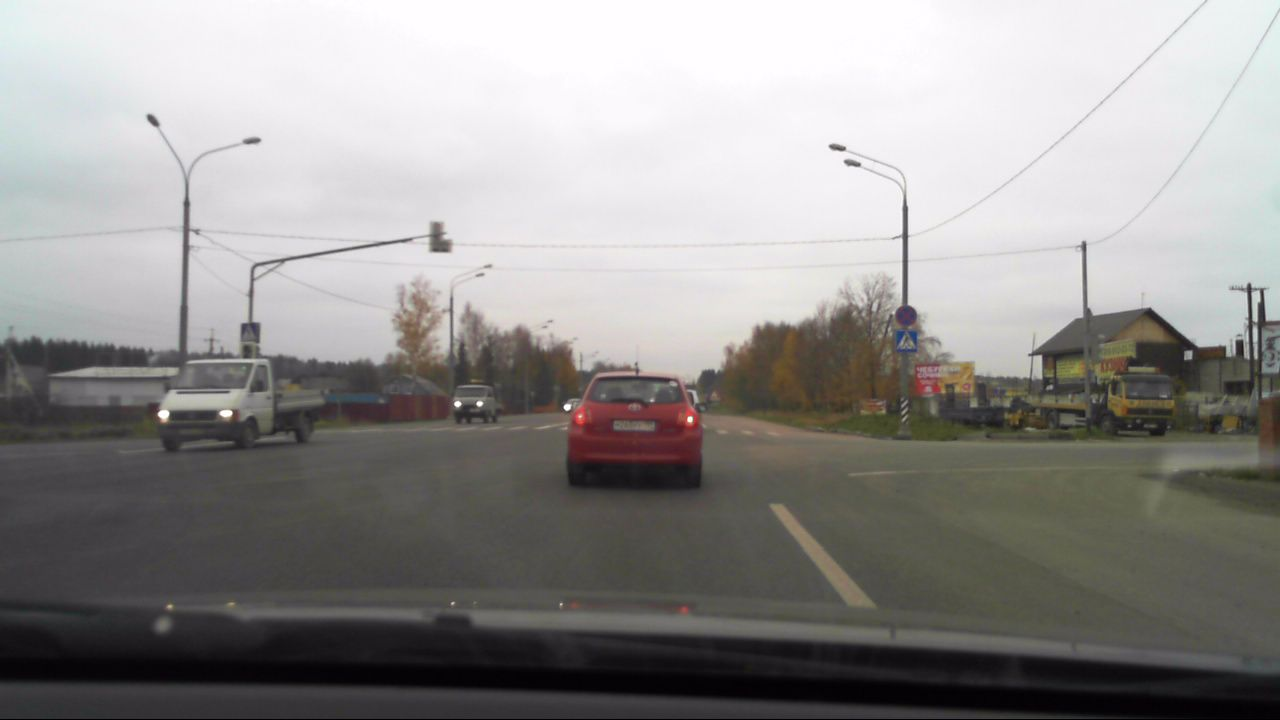No Parking: (893, 304, 917, 327)
